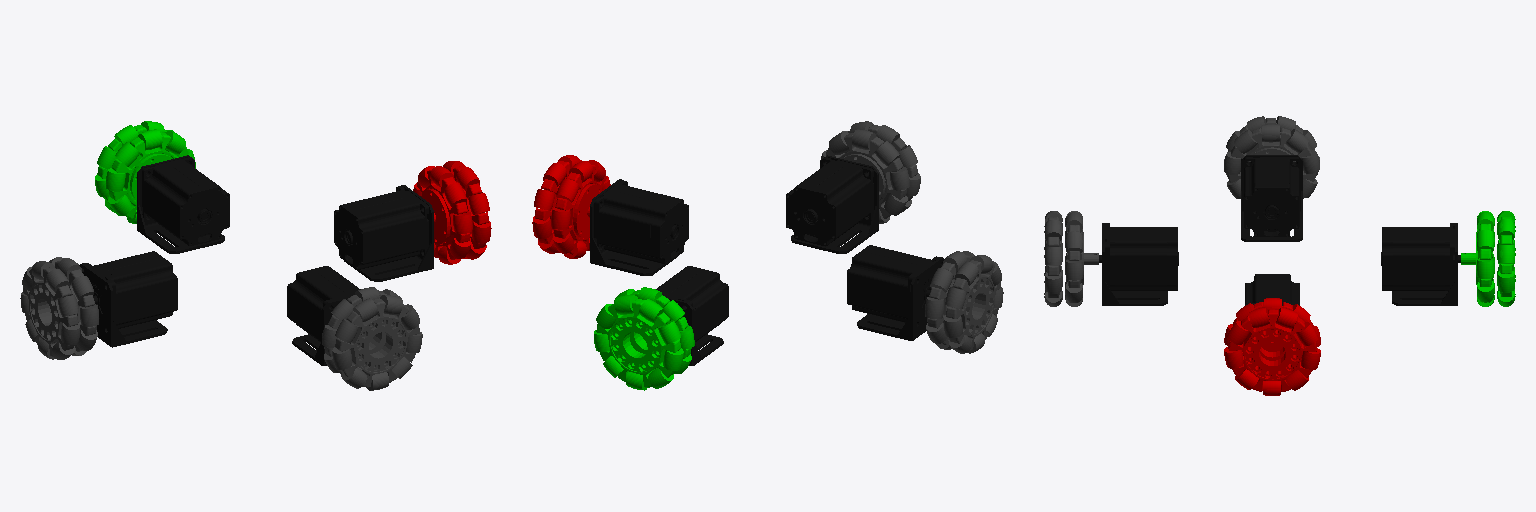
URDF robot description (Robot):
<?xml version="1.0" encoding="utf-8"?>
<!-- This URDF was automatically created by SolidWorks to URDF Exporter! Originally created by [author] ([email redacted]) 
     Commit Version: 1.6.0-4-g7f85cfe  Build Version: 1.6.7995.38578
     For more information, please see http://wiki.ros.org/sw_urdf_exporter -->
<robot
  name="Robot">
  <link
    name="base_link">
    <inertial>
      <origin
        xyz="-0.157486061036765 -0.000285085739825081 -0.0225046964819652"
        rpy="0 0 0" />
      <mass
        value="1.206753271021" />
      <inertia
        ixx="0.00196507531117052"
        ixy="9.86649316798731E-09"
        ixz="-8.71549812039233E-07"
        iyy="0.00245945680236718"
        iyz="6.43777918234759E-20"
        izz="0.00414437527817527" />
    </inertial>
    <visual>
      <origin
        xyz="0 0 0"
        rpy="0 0 0" />
      <geometry>
        <mesh
          filename="package://Robot/meshes/base_link.STL" />
      </geometry>
      <material
        name="base">
        <color
          rgba="0.5 0.5 0.5 1" />
      </material>
    </visual>
    <collision>
      <origin
        xyz="0 0 0"
        rpy="0 0 0" />
      <geometry>
        <mesh
          filename="package://Robot/meshes/base_link.STL" />
      </geometry>
    </collision>
  </link>
  <link
    name="motor_one">
    <inertial>
      <origin
        xyz="-0.0130082713947478 -0.00764575523290381 -0.0609808542253382"
        rpy="0 0 0" />
      <mass
        value="1.1" />
      <inertia
        ixx="69.18E-05"
        ixy="-33.6E-10"
        ixz="-44E-06"
        iyy="60.09E-05"
        iyz="-36.173E-09"
        izz="59.57E-05" />
    </inertial>
    <visual>
      <origin
        xyz="0 0 0"
        rpy="0 0 0" />
      <geometry>
        <mesh
          filename="package://Robot/meshes/motor_one.STL" />
      </geometry>
      <material
        name="motor">
        <color
          rgba="0.1 0.1 0.1 1" />
      </material>
    </visual>
    <collision>
      <origin
        xyz="0 0 0"
        rpy="0 0 0" />
      <geometry>
        <mesh
          filename="package://Robot/meshes/motor_one.STL" />
      </geometry>
    </collision>
  </link>
  <joint
    name="base_motor_one"
    type="fixed">
    <origin
      xyz="0.00119745896918461 0 -0.03"
      rpy="0 0 0" />
    <parent
      link="base_link" />
    <child
      link="motor_one" />
    <axis
      xyz="0 0 0" />
  </joint>
  <link
    name="wheel_one">
    <inertial>
      <origin
        xyz="0.027605 1.3484E-05 6.9609E-05"
        rpy="0 0 0" />
      <mass
        value="0.19596" />
      <inertia
        ixx="7.5537E-05"
        ixy="-5.4765E-11"
        ixz="-2.9465E-10"
        iyy="4.1285E-05"
        iyz="2.009E-11"
        izz="4.1285E-05" />
    </inertial>
    <visual>
      <origin
        xyz="0 0 0"
        rpy="0 0 0" />
      <geometry>
        <mesh
          filename="package://Robot/meshes/wheel_one.STL" />
      </geometry>
      <material
        name="wheelx">
        <color
          rgba="0.8 0 0 1" />
      </material>
    </visual>
    <collision>
      <origin
        xyz="0 0 0"
        rpy="0 0 0" />
      <geometry>
        <mesh
          filename="package://Robot/meshes/wheel_one.STL" />
      </geometry>
    </collision>
  </link>
  <joint
    name="joint_one"
    type="continuous">
    <origin
      xyz="0.03355 -0.0076435 -0.05714"
      rpy="0 0 0" />
    <parent
      link="motor_one" />
    <child
      link="wheel_one" />
    <axis
      xyz="1 0 0" />
  </joint>
  <link
    name="motor_two">
    <inertial>
      <origin
        xyz="-0.0130082713947483 -0.00764575523290717 -0.0609808542253383"
        rpy="0 0 0" />
      <mass
        value="1.1" />
      <inertia
        ixx="69.18E-05"
        ixy="-33.6E-10"
        ixz="-44E-06"
        iyy="60.09E-05"
        iyz="-36.173E-09"
        izz="59.57E-05" />
    </inertial>
    <visual>
      <origin
        xyz="0 0 0"
        rpy="0 0 0" />
      <geometry>
        <mesh
          filename="package://Robot/meshes/motor_two.STL" />
      </geometry>
      <material
        name="motor">
        <color
          rgba="0.1 0.1 0.1 1" />
      </material>
    </visual>
    <collision>
      <origin
        xyz="0 0 0"
        rpy="0 0 0" />
      <geometry>
        <mesh
          filename="package://Robot/meshes/motor_two.STL" />
      </geometry>
    </collision>
  </link>
  <joint
    name="base_motor_two"
    type="fixed">
    <origin
      xyz="-0.16 0.1612 -0.03"
      rpy="0 0 1.5708" />
    <parent
      link="base_link" />
    <child
      link="motor_two" />
    <axis
      xyz="0 0 0" />
  </joint>
  <link
    name="wheel_two">
    <inertial>
      <origin
        xyz="0.027605 1.3484E-05 6.9609E-05"
        rpy="0 0 0" />
      <mass
        value="0.19596" />
      <inertia
        ixx="7.5537E-05"
        ixy="-5.4777E-11"
        ixz="-2.9464E-10"
        iyy="4.1285E-05"
        iyz="2.0058E-11"
        izz="4.1285E-05" />
    </inertial>
    <visual>
      <origin
        xyz="0 0 0"
        rpy="0 0 0" />
      <geometry>
        <mesh
          filename="package://Robot/meshes/wheel_two.STL" />
      </geometry>
      <material
        name="wheely">
        <color
          rgba="0 0.8 0 1" />
      </material>
    </visual>
    <collision>
      <origin
        xyz="0 0 0"
        rpy="0 0 0" />
      <geometry>
        <mesh
          filename="package://Robot/meshes/wheel_two.STL" />
      </geometry>
    </collision>
  </link>
  <joint
    name="joint_two"
    type="continuous">
    <origin
      xyz="0.03355 -0.0076435 -0.05714"
      rpy="0 0 0" />
    <parent
      link="motor_two" />
    <child
      link="wheel_two" />
    <axis
      xyz="1 0 0" />
  </joint>
  <link
    name="motor_three">
    <inertial>
      <origin
        xyz="-0.0130082713947506 0.00835424476709146 -0.0609808542253382"
        rpy="0 0 0" />
      <mass
        value="1.1" />
      <inertia
        ixx="69.18E-05"
        ixy="-33.6E-10"
        ixz="-44E-06"
        iyy="60.09E-05"
        iyz="-36.173E-09"
        izz="59.57E-05" />
    </inertial>
    <visual>
      <origin
        xyz="0 0 0"
        rpy="0 0 0" />
      <geometry>
        <mesh
          filename="package://Robot/meshes/motor_three.STL" />
      </geometry>
      <material
        name="motor">
        <color
          rgba="0.1 0.1 0.1 1" />
      </material>
    </visual>
    <collision>
      <origin
        xyz="0 0 0"
        rpy="0 0 0" />
      <geometry>
        <mesh
          filename="package://Robot/meshes/motor_three.STL" />
      </geometry>
    </collision>
  </link>
  <joint
    name="base_motor_three"
    type="fixed">
    <origin
      xyz="-0.3212 0 -0.03"
      rpy="0 0 3.1416" />
    <parent
      link="base_link" />
    <child
      link="motor_three" />
    <axis
      xyz="0 0 0" />
  </joint>
  <link
    name="wheel_three">
    <inertial>
      <origin
        xyz="0.027605 1.3484E-05 6.9609E-05"
        rpy="0 0 0" />
      <mass
        value="0.19596" />
      <inertia
        ixx="7.5537E-05"
        ixy="-5.5452E-11"
        ixz="-2.9406E-10"
        iyy="4.1285E-05"
        iyz="1.998E-11"
        izz="4.1285E-05" />
    </inertial>
    <visual>
      <origin
        xyz="0 0 0"
        rpy="0 0 0" />
      <geometry>
        <mesh
          filename="package://Robot/meshes/wheel_three.STL" />
      </geometry>
      <material
        name="wheel">
        <color
          rgba="0.3 0.3 0.3 1" />
      </material>
    </visual>
    <collision>
      <origin
        xyz="0 0 0"
        rpy="0 0 0" />
      <geometry>
        <mesh
          filename="package://Robot/meshes/wheel_three.STL" />
      </geometry>
    </collision>
  </link>
  <joint
    name="joint_three"
    type="continuous">
    <origin
      xyz="0.03355 0.0083565 -0.05714"
      rpy="0 0 0" />
    <parent
      link="motor_three" />
    <child
      link="wheel_three" />
    <axis
      xyz="1 0 0" />
  </joint>
  <link
    name="motor_four">
    <inertial>
      <origin
        xyz="-0.013008 0.0077542 -0.060981"
        rpy="0 0 0" />
      <mass
        value="1.1" />
      <inertia
        ixx="69.18E-05"
        ixy="-33.6E-10"
        ixz="-44E-06"
        iyy="60.09E-05"
        iyz="-36.173E-09"
        izz="59.57E-05" />
    </inertial>
    <visual>
      <origin
        xyz="0 0 0"
        rpy="0 0 0" />
      <geometry>
        <mesh
          filename="package://Robot/meshes/motor_four.STL" />
      </geometry>
      <material
        name="motor">
        <color
          rgba="0.1 0.1 0.1 1" />
      </material>
    </visual>
    <collision>
      <origin
        xyz="0 0 0"
        rpy="0 0 0" />
      <geometry>
        <mesh
          filename="package://Robot/meshes/motor_four.STL" />
      </geometry>
    </collision>
  </link>
  <joint
    name="base_motor_four"
    type="fixed">
    <origin
      xyz="-0.160000000000001 -0.161197458969184 -0.0299999999999984"
      rpy="0 0 -1.5707963267949" />
    <parent
      link="base_link" />
    <child
      link="motor_four" />
    <axis
      xyz="0 0 0" />
  </joint>
  <link
    name="wheel_four">
    <inertial>
      <origin
        xyz="0.027605 1.3484E-05 6.9609E-05"
        rpy="0 0 0" />
      <mass
        value="0.19596" />
      <inertia
        ixx="7.5537E-05"
        ixy="-5.5472E-11"
        ixz="-2.9403E-10"
        iyy="4.1285E-05"
        iyz="1.9984E-11"
        izz="4.1285E-05" />
    </inertial>
    <visual>
      <origin
        xyz="0 0 0"
        rpy="0 0 0" />
      <geometry>
        <mesh
          filename="package://Robot/meshes/wheel_four.STL" />
      </geometry>
      <material
        name="wheel">
        <color
          rgba="0.3 0.3 0.3 1" />
      </material>
    </visual>
    <collision>
      <origin
        xyz="0 0 0"
        rpy="0 0 0" />
      <geometry>
        <mesh
          filename="package://Robot/meshes/wheel_four.STL" />
      </geometry>
    </collision>
  </link>
  <joint
    name="joint_four"
    type="continuous">
    <origin
      xyz="0.03355 0.0077565 -0.05714"
      rpy="0 0 0" />
    <parent
      link="motor_four" />
    <child
      link="wheel_four" />
    <axis
      xyz="1 0 0" />
  </joint>
</robot>

--- Render facts (derived) ---
3 views of the same robot in one strip: view 1: azimuth 30°, elevation 25°; view 2: azimuth 150°, elevation 25°; view 3: azimuth 270°, elevation 25° (orthographic).
Robot: Robot — 9 links, 8 joints (4 continuous, 4 fixed); root link base_link; default pose: all joints at 0.
Links seen in each view (by area): view 1: wheel_four, motor_one, motor_two, motor_three, wheel_three, wheel_one, wheel_two, motor_four; view 2: wheel_two, motor_one, motor_four, motor_three, wheel_three, wheel_one, wheel_four, motor_two; view 3: wheel_one, motor_two, motor_four, motor_three, wheel_three, wheel_four, wheel_two, motor_one.
Link boxes in pixels (left/top/right/bottom): wheel_four: left=322, top=287, right=422, bottom=390; motor_one: left=334, top=185, right=433, bottom=281; motor_two: left=137, top=155, right=229, bottom=253; motor_three: left=79, top=251, right=177, bottom=347; wheel_three: left=20, top=257, right=98, bottom=359; wheel_one: left=413, top=161, right=491, bottom=264; wheel_two: left=95, top=121, right=195, bottom=223; motor_four: left=287, top=266, right=360, bottom=365; wheel_two: left=594, top=287, right=694, bottom=390; motor_one: left=590, top=179, right=688, bottom=275; motor_four: left=786, top=155, right=878, bottom=253; motor_three: left=847, top=245, right=944, bottom=340; wheel_three: left=925, top=251, right=1003, bottom=353; wheel_one: left=532, top=155, right=610, bottom=258; wheel_four: left=820, top=121, right=920, bottom=223; motor_two: left=656, top=266, right=728, bottom=365; wheel_one: left=1224, top=298, right=1320, bottom=395; motor_two: left=1381, top=223, right=1460, bottom=305; motor_four: left=1099, top=223, right=1178, bottom=305; motor_three: left=1241, top=155, right=1302, bottom=241; wheel_three: left=1224, top=116, right=1319, bottom=198; wheel_four: left=1044, top=211, right=1098, bottom=306; wheel_two: left=1461, top=211, right=1515, bottom=306; motor_one: left=1245, top=274, right=1299, bottom=305.
Bounding box of the posed robot: 0.4872 × 0.4872 × 0.1 m (x, y, z).
8 mesh visuals loaded from 9 distinct referenced files (8 binary STL); not drawn: 1 (reference not matched to a file when rendering).